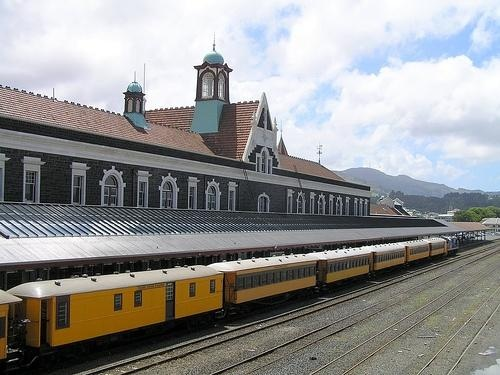train: (1, 234, 461, 372)
